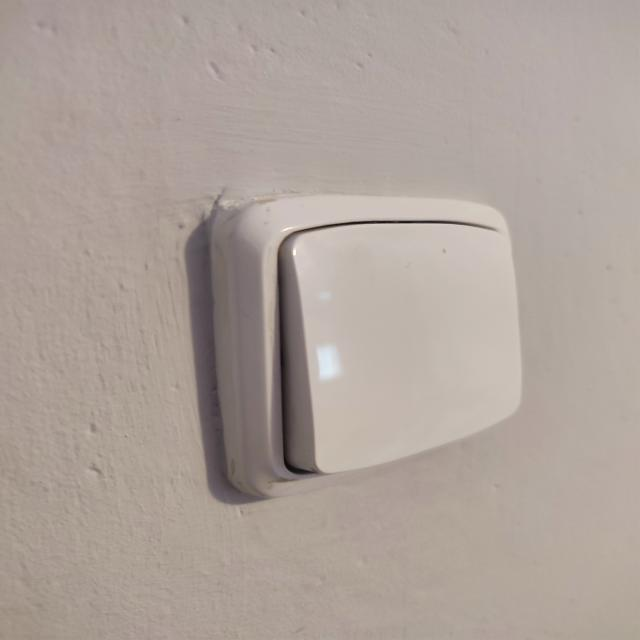house switch: (210, 194, 522, 500)
